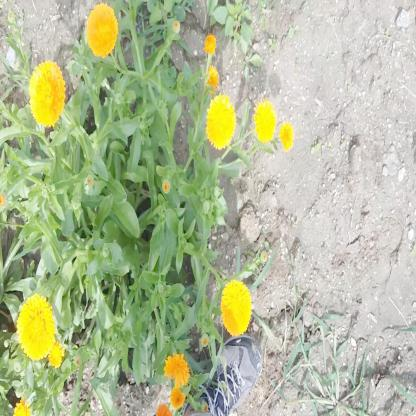marigold: (16, 294, 52, 360), (31, 61, 63, 125), (86, 7, 118, 56), (206, 94, 234, 149), (222, 281, 250, 334), (254, 99, 275, 143), (164, 354, 190, 384), (50, 343, 62, 365)
